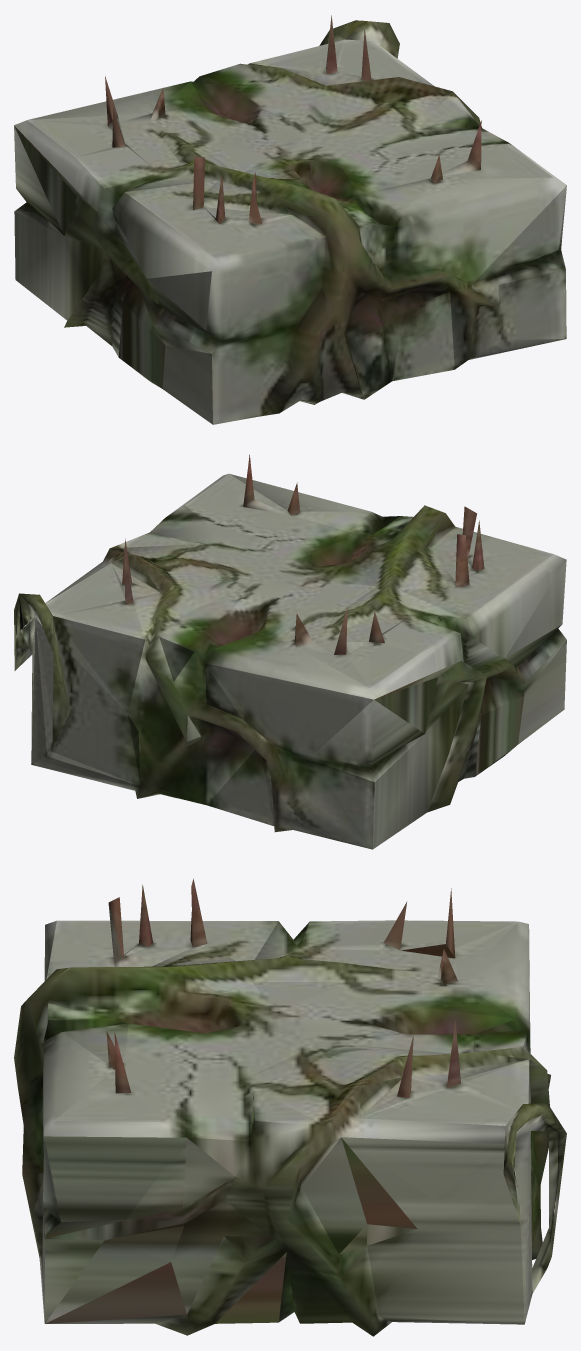
Rendered from prop_overgrown_footing.glb.
3 views of the same model, one above another, from view 1: azimuth 30°, elevation 25°; view 2: azimuth 150°, elevation 25°; view 3: azimuth 270°, elevation 25° (orthographic). The views are drawn at different scales.
Visible parts, largest first — view 1: Mesh_0; view 2: Mesh_0; view 3: Mesh_0.
Boxes of the visible parts, x1,y1,x2,y2 form: Mesh_0: (14, 15, 566, 424); Mesh_0: (14, 454, 566, 849); Mesh_0: (14, 878, 566, 1336).
Bounding box in the file's own units: 1.99 × 1.13 × 1.99.
1 material, 1 textured.
